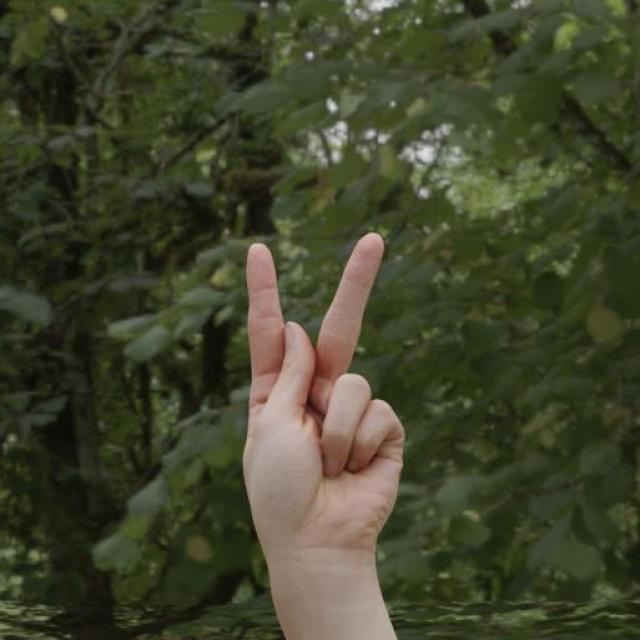K: (198, 197, 483, 640)
